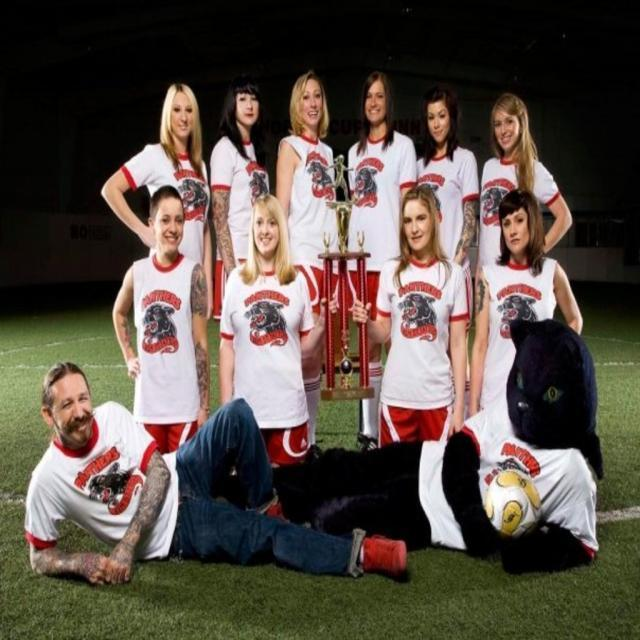football: (472, 467, 544, 544)
